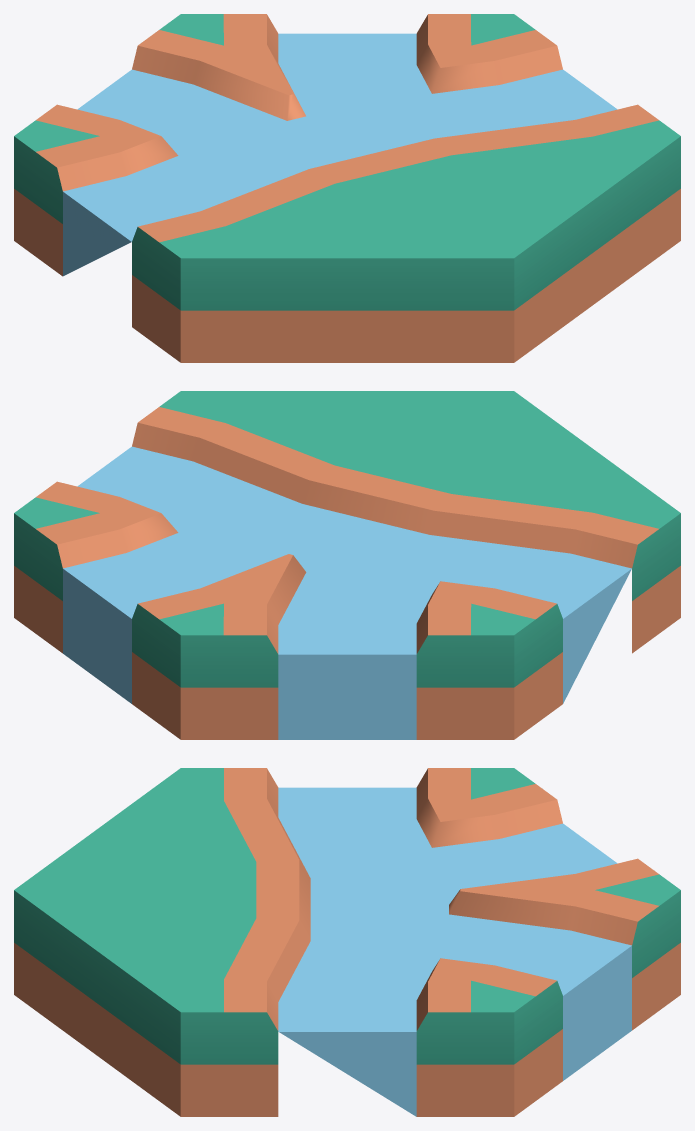
File: kenney-hexagon-river-intersectionh.glb
3 views of the same model, one above another, from view 1: azimuth 30°, elevation 25°; view 2: azimuth 150°, elevation 25°; view 3: azimuth 270°, elevation 25° (orthographic).
Visible parts, largest first — view 1: river_intersectionH; view 2: river_intersectionH; view 3: river_intersectionH.
Part boxes in pixels (left/top/right/bottom): river_intersectionH: left=14, top=14, right=680, bottom=362; river_intersectionH: left=14, top=391, right=680, bottom=739; river_intersectionH: left=14, top=768, right=680, bottom=1116.
Bounding box in the file's own units: 1 × 0.2 × 1.15.
Materials: 1 (1 with a texture image).
